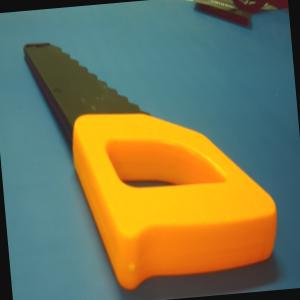serrote: (17, 22, 285, 300)
